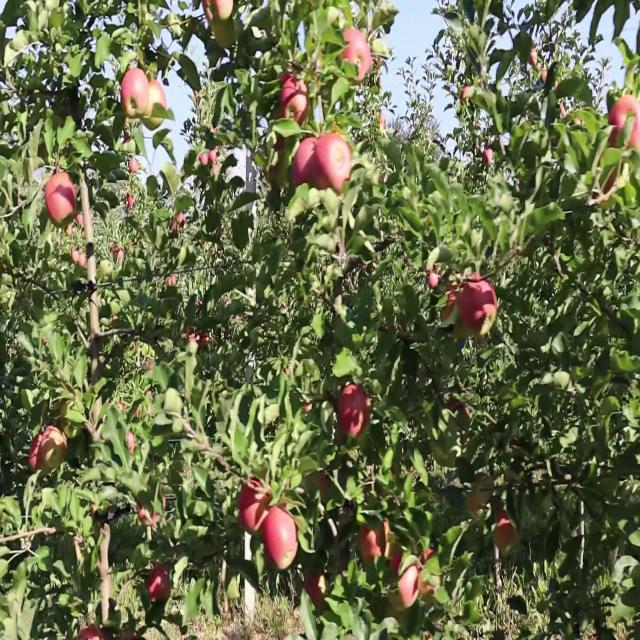apple: (457, 276, 499, 340), (315, 128, 354, 191), (264, 508, 298, 572), (387, 550, 421, 612), (44, 168, 78, 229), (337, 384, 371, 444), (339, 24, 370, 87), (608, 93, 640, 148), (238, 478, 268, 533), (356, 518, 389, 566), (120, 66, 147, 119), (280, 71, 306, 124), (38, 425, 67, 469), (291, 137, 314, 187), (146, 78, 165, 130), (494, 513, 514, 554), (203, 0, 232, 26), (149, 565, 168, 599), (215, 25, 233, 45), (29, 441, 41, 470)
